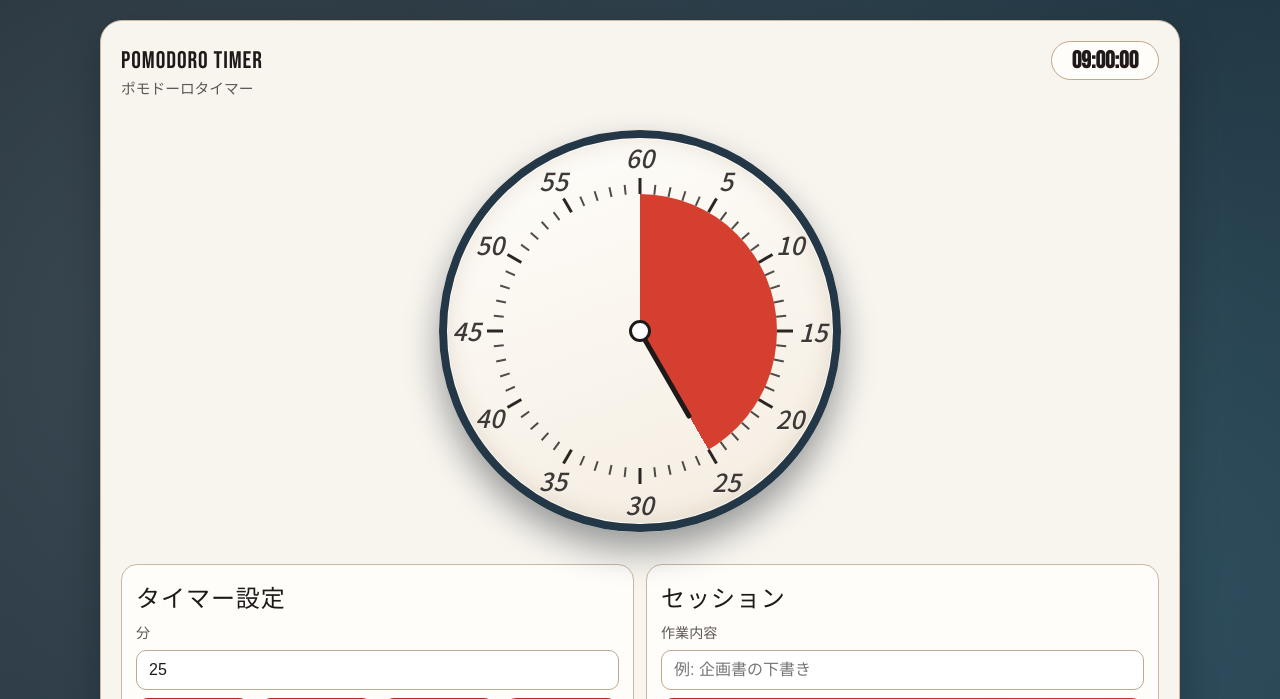
Test: App › saves one log after timer reaches zero
The image size is (1280, 699).
Replace the text in the number field labelled "分" with "1" at x=378, y=670, box top-left (136, 650), bottom-right (619, 690)
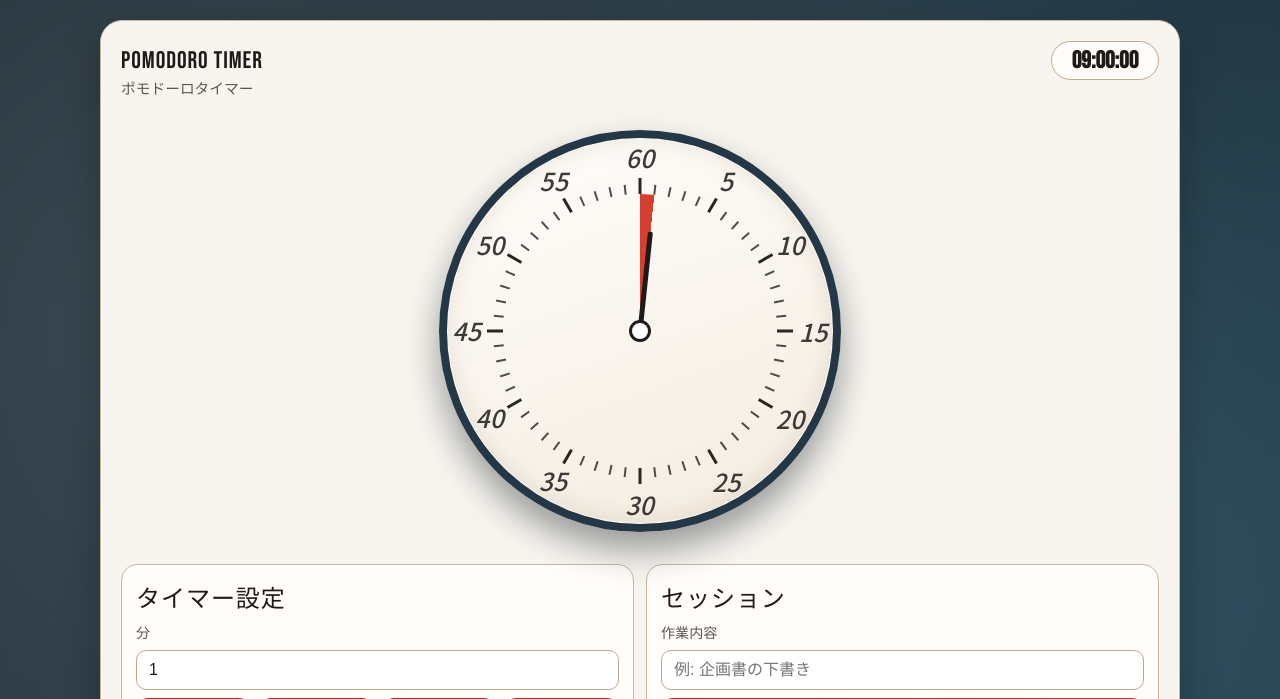
Type "テスト作業" into the field labelled "作業内容" at x=902, y=670, box top-left (661, 650), bottom-right (1144, 690)
(page scrolled)
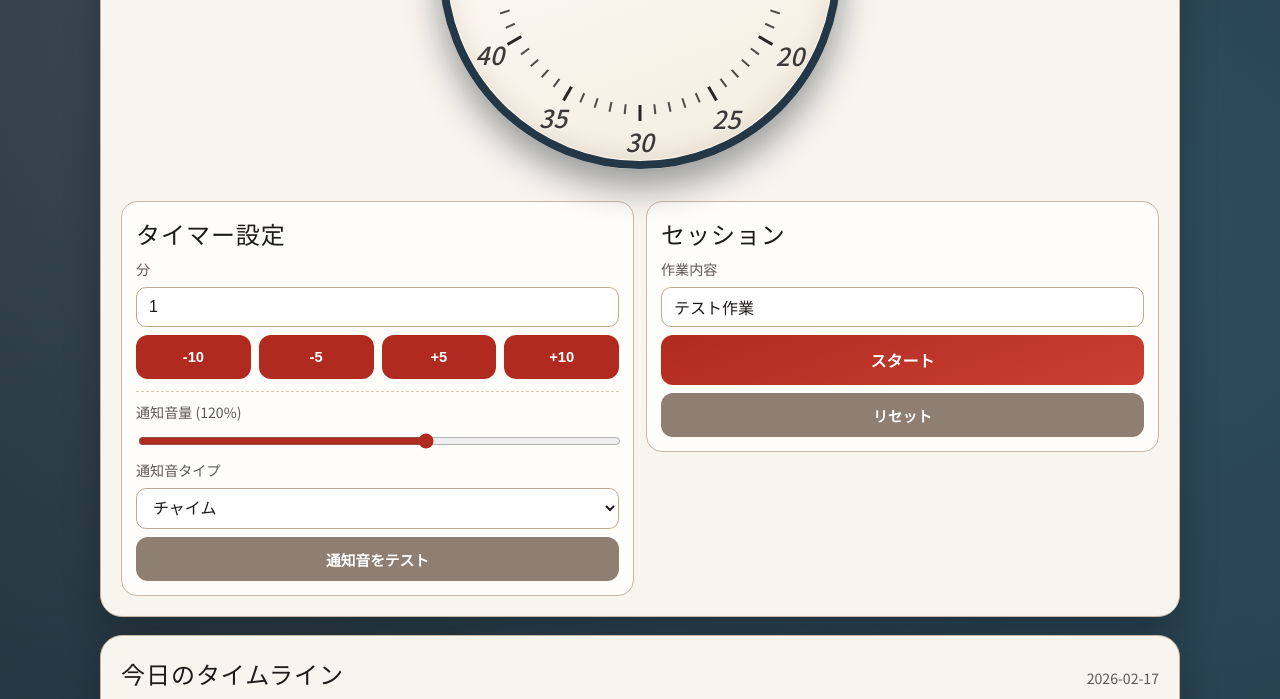
Click the button named "タイマー開始" at x=902, y=360, box top-left (661, 335), bottom-right (1144, 385)
Wait 61000 ms
(page scrolled)
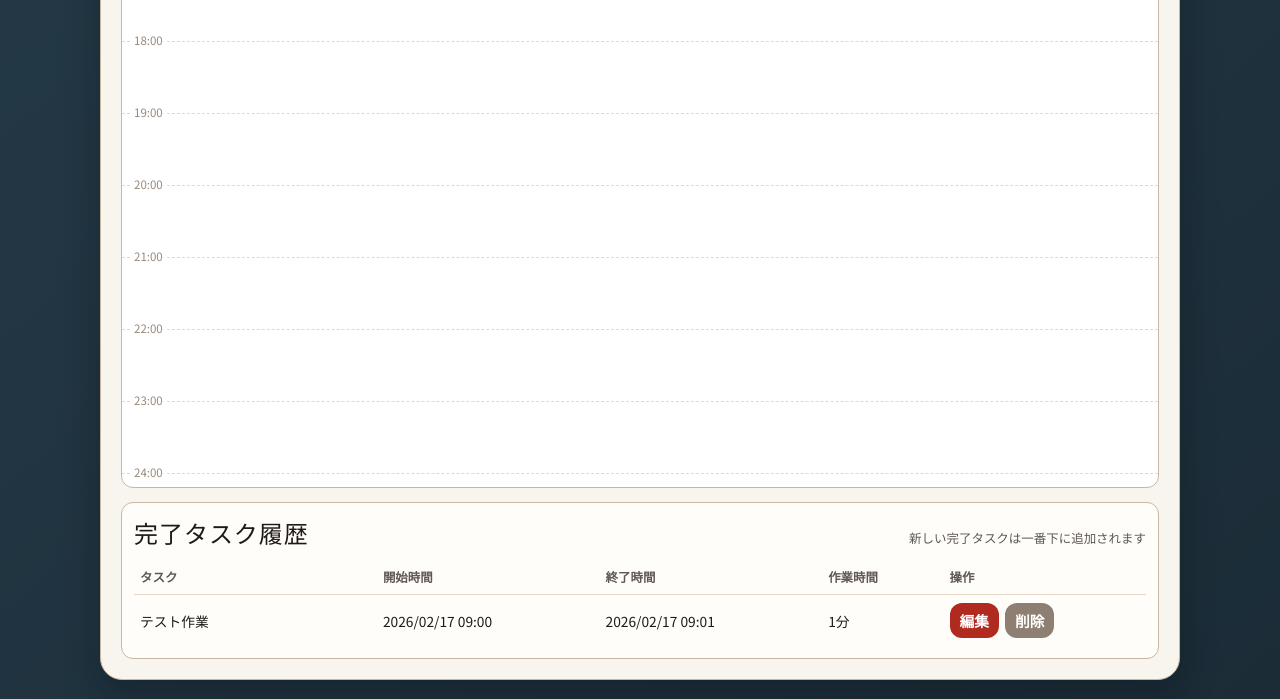
Now the cell "テスト作業" is shown, box top-left (134, 594), bottom-right (377, 646)
